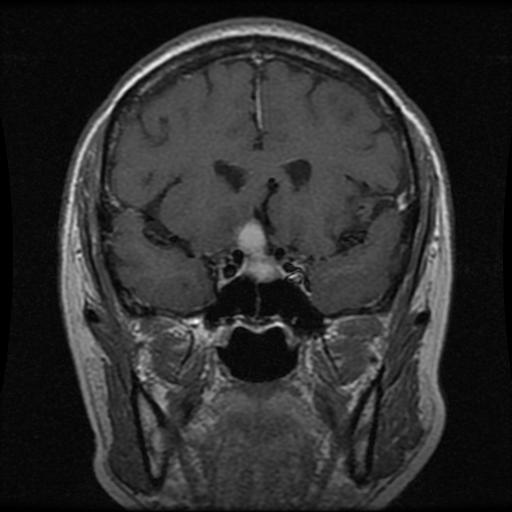Pituirity_tumour: (237, 222, 282, 282)
